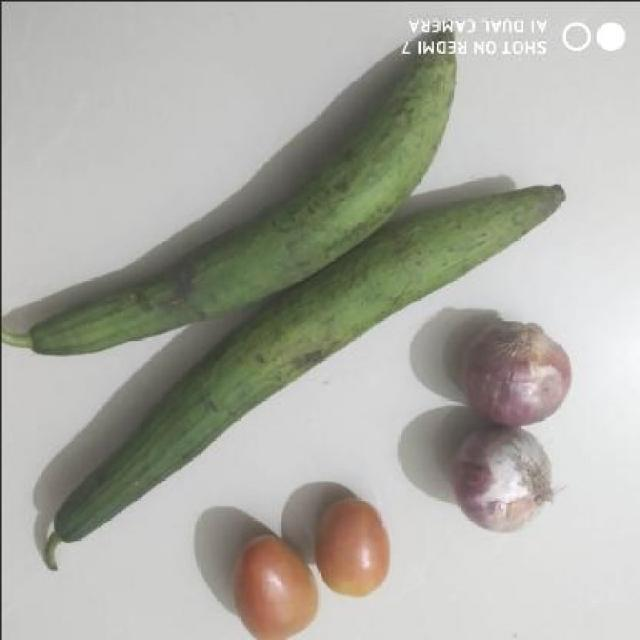onion: (435, 322, 587, 438), (432, 425, 562, 541)
tomato: (227, 527, 321, 640), (312, 486, 394, 606)
